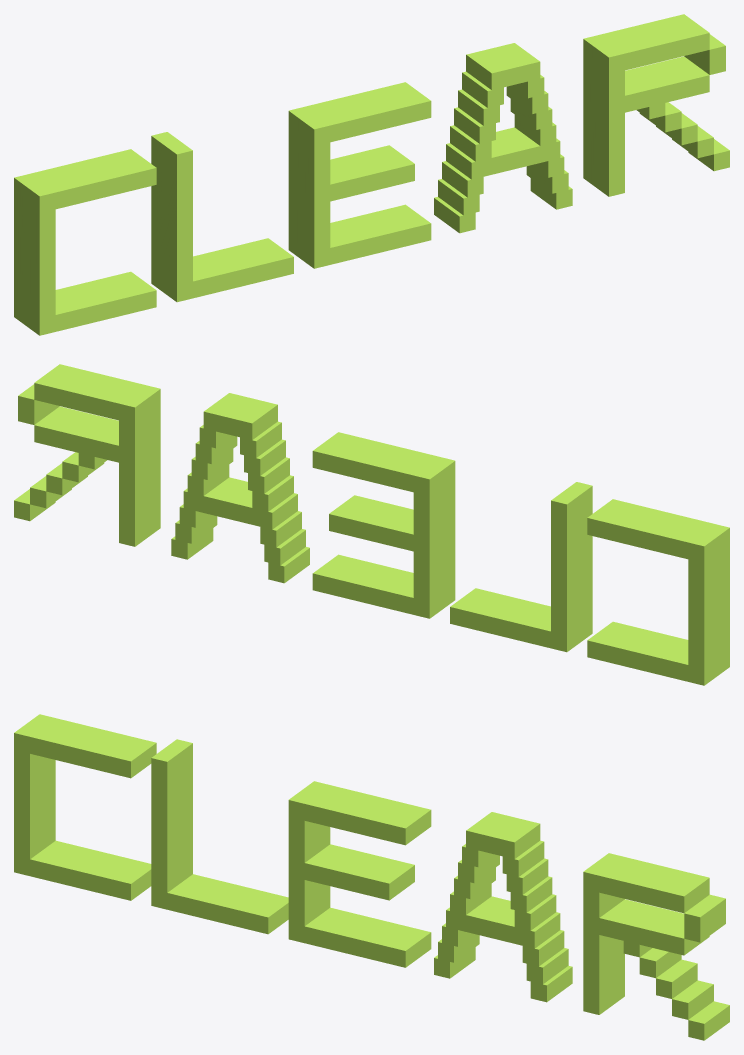
Rendered from clear.obj.
3 renders of one model, top to bottom at view 1: azimuth 30°, elevation 25°; view 2: azimuth 150°, elevation 25°; view 3: azimuth 330°, elevation 25°, orthographic.
Size of the model in its own units: 17.1 by 3.6 by 1.1.
1 material, 1 textured.
